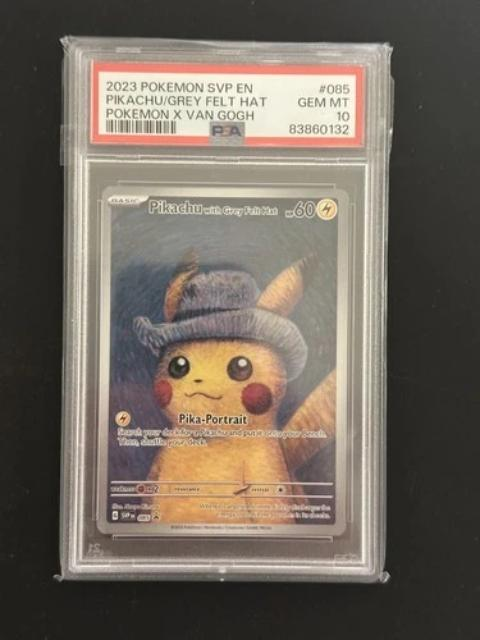Card: (93, 182, 351, 539)
Name: (143, 193, 278, 220)
